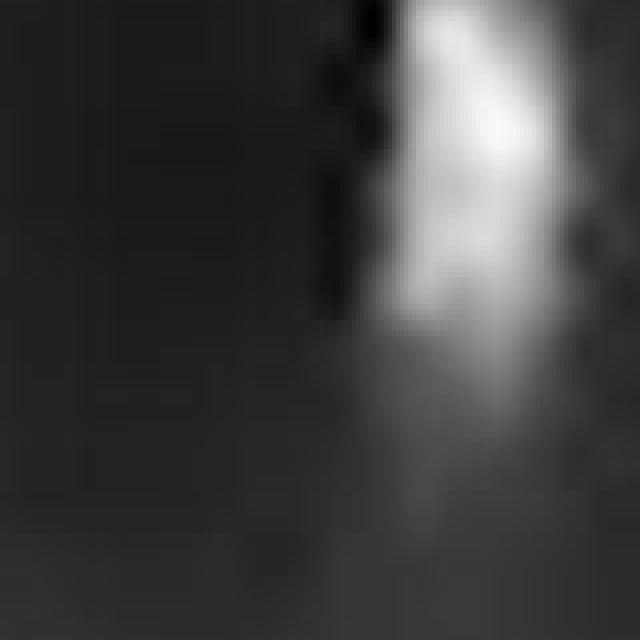person: (349, 1, 605, 438)
